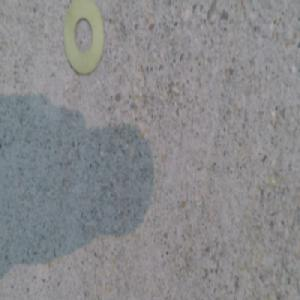Washer: (63, 7, 105, 81)
